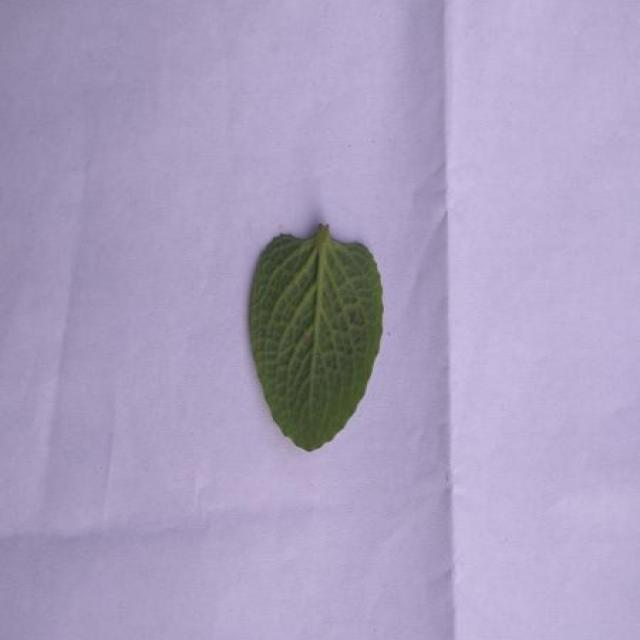doddpathre: (250, 224, 383, 451)
